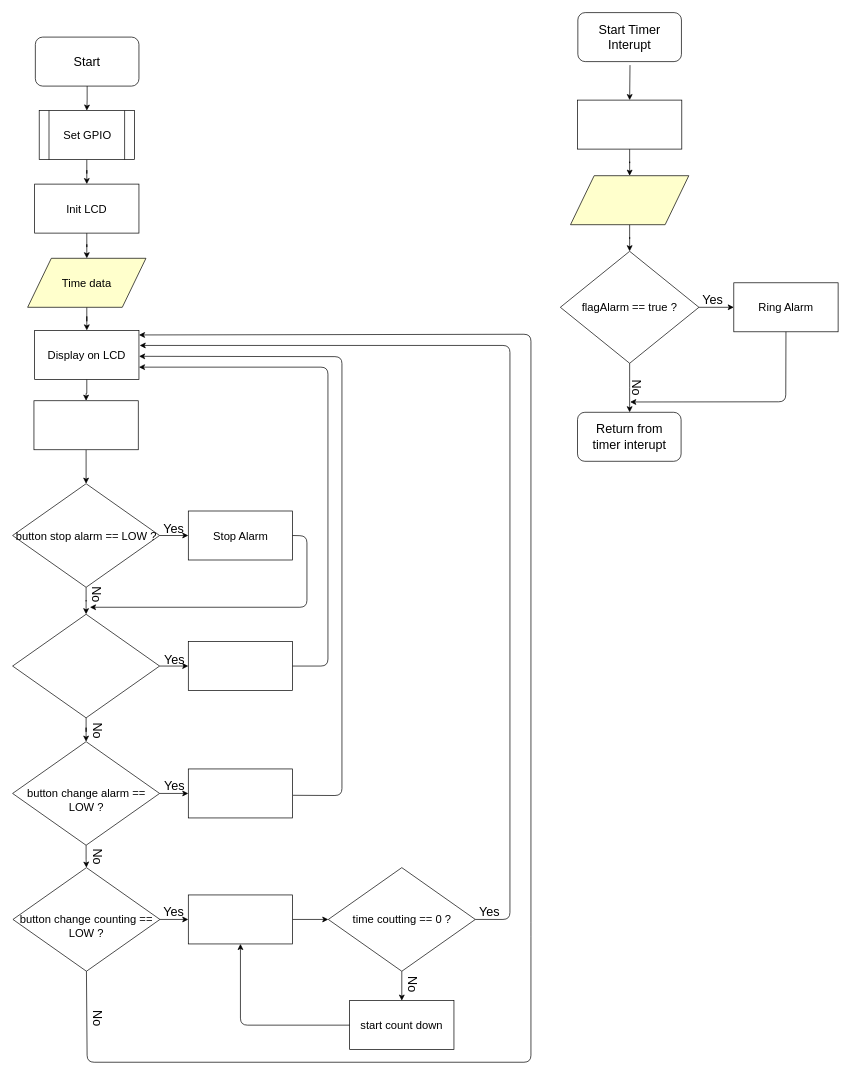
Some shapes in this 851 by 1080 pixel diagram are drawn without their labels. Here are the shapes that lost their labels. From the top down, the box of each, then its label:
(577, 99, 682, 149): Increase time curent 1s
(570, 175, 689, 225): Update time data
(33, 400, 138, 450): Read buttons
(12, 614, 160, 718): button change current time == LOW ?
(188, 641, 293, 691): proccess logic to change current time
(188, 768, 293, 818): proccess logic to change alarm time
(188, 894, 293, 944): proccess logic to change counting time
